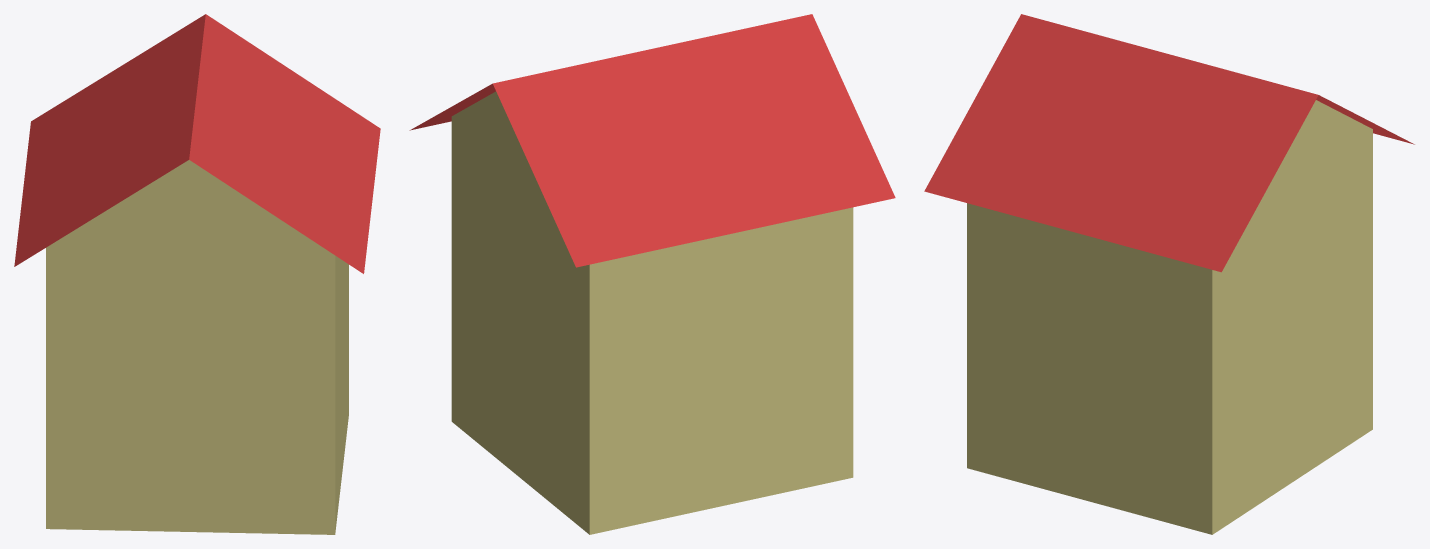
The picture shows the model from 3 angles, left to right: view 1: azimuth 30°, elevation 25°; view 2: azimuth 150°, elevation 25°; view 3: azimuth 270°, elevation 25°; orthographic projection. The views are drawn at different scales.
Visible parts, largest first — view 1: group_5, group_3, group_4; view 2: group_5, group_3, group_4; view 3: group_5, group_3, group_4.
Part boxes in pixels (left/top/right/bottom): group_5: left=46, top=160, right=348, bottom=534; group_3: left=14, top=14, right=380, bottom=273; group_4: left=189, top=14, right=367, bottom=243; group_5: left=451, top=91, right=853, bottom=534; group_3: left=484, top=14, right=895, bottom=267; group_4: left=409, top=77, right=523, bottom=130; group_5: left=967, top=100, right=1372, bottom=534; group_3: left=924, top=14, right=1318, bottom=272; group_4: left=994, top=14, right=1414, bottom=269.
Size of the model in its own units: 15.91 by 15.86 by 14.04.
